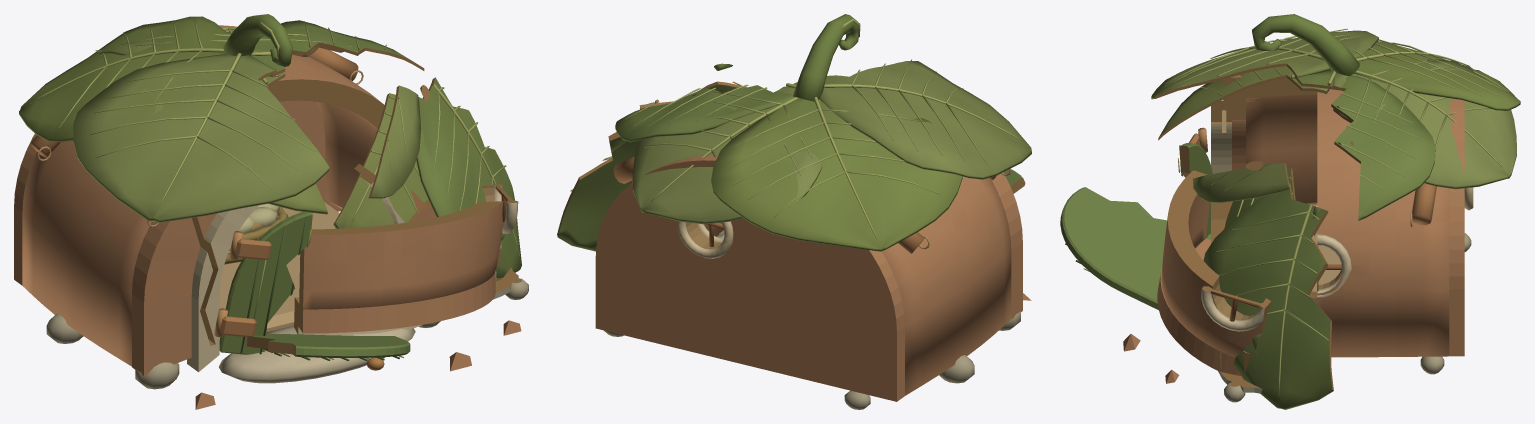
3 renders of one model, left to right at view 1: azimuth 30°, elevation 25°; view 2: azimuth 150°, elevation 25°; view 3: azimuth 270°, elevation 25°, orthographic. The views are drawn at different scales.
Visible parts, largest first — view 1: asset_root_geometry, roof_assembly, authored_static_debris, collapsed_leaf_canopy, door_assembly, fallen_green_door; view 2: asset_root_geometry, roof_assembly, collapsed_leaf_canopy; view 3: asset_root_geometry, roof_assembly, collapsed_leaf_canopy, authored_static_debris, fallen_green_door, door_assembly.
Boxes of the visible parts, x1,y1,x2,y2 form: asset_root_geometry: (14,25,528,389); roof_assembly: (19,14,424,227); authored_static_debris: (195,184,521,409); collapsed_leaf_canopy: (333,77,521,278); door_assembly: (214,211,312,354); fallen_green_door: (246,333,410,370); asset_root_geometry: (595,155,1022,409); roof_assembly: (613,14,1031,253); collapsed_leaf_canopy: (557,63,746,251); asset_root_geometry: (1211,75,1473,402); roof_assembly: (1151,14,1520,227); collapsed_leaf_canopy: (1192,161,1333,409); authored_static_debris: (1123,170,1271,383); fallen_green_door: (1060,187,1210,310); door_assembly: (1178,127,1212,238).
Size of the model in its own units: 0.3417 by 0.2265 by 0.3282.
